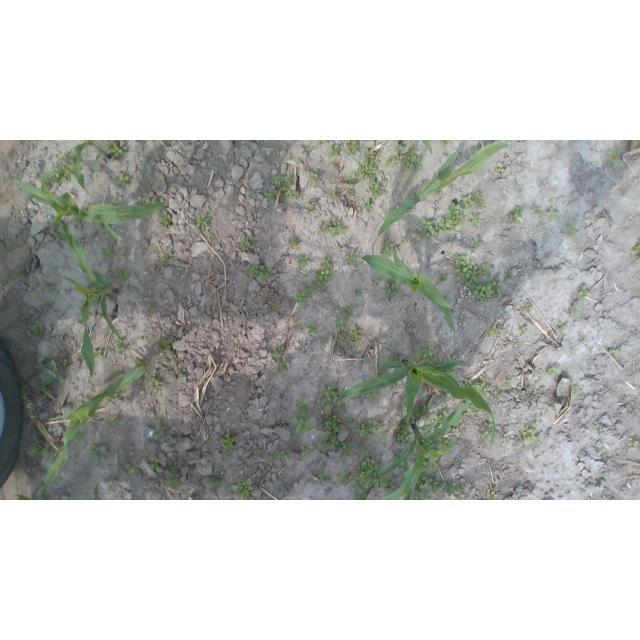Maize: (370, 140, 511, 254), (333, 354, 497, 450), (36, 365, 149, 500), (53, 216, 120, 377), (15, 172, 166, 241), (348, 244, 456, 332), (378, 398, 471, 500), (71, 140, 110, 198), (15, 484, 105, 500), (398, 140, 446, 156)
Weeds: (350, 457, 398, 500), (454, 253, 495, 284), (266, 172, 302, 202), (289, 397, 316, 436), (46, 148, 74, 185), (464, 277, 503, 303), (355, 147, 380, 181), (420, 217, 450, 245), (393, 145, 424, 171), (413, 473, 442, 500), (316, 384, 345, 409), (425, 435, 454, 459), (39, 360, 65, 386), (314, 257, 334, 289), (394, 417, 415, 445), (446, 201, 464, 233), (28, 440, 56, 460), (356, 420, 384, 440), (440, 479, 466, 500), (313, 435, 340, 454), (468, 375, 491, 397), (324, 411, 345, 435), (415, 343, 437, 365), (296, 284, 316, 308), (244, 265, 273, 281), (231, 480, 253, 501), (520, 423, 541, 445), (463, 191, 485, 210), (164, 465, 180, 489), (154, 335, 173, 354), (505, 205, 524, 224), (90, 443, 110, 461), (219, 432, 237, 452), (339, 441, 354, 464), (105, 141, 123, 160), (412, 405, 431, 423), (367, 179, 386, 197), (146, 371, 162, 392), (429, 411, 450, 427), (462, 398, 483, 414), (327, 218, 345, 236), (196, 213, 213, 232), (239, 235, 257, 251), (347, 327, 361, 347), (384, 279, 397, 300), (36, 380, 53, 396), (379, 242, 397, 257), (170, 361, 186, 377), (375, 364, 392, 379), (115, 172, 130, 189), (159, 211, 174, 228), (114, 336, 128, 354), (603, 150, 618, 166), (127, 463, 144, 477), (577, 284, 591, 300), (150, 457, 163, 474), (32, 318, 44, 336), (346, 251, 360, 266), (114, 268, 129, 282), (71, 429, 85, 444), (335, 471, 350, 485), (567, 220, 577, 241), (345, 141, 359, 156), (442, 366, 458, 379), (468, 212, 481, 228), (153, 419, 165, 436), (545, 364, 562, 376), (328, 143, 342, 157), (547, 208, 561, 222), (104, 394, 119, 407), (448, 420, 463, 433), (479, 428, 492, 443), (279, 356, 289, 375), (266, 299, 280, 312), (421, 460, 434, 474), (298, 255, 310, 270), (143, 194, 158, 206), (41, 281, 56, 293), (487, 325, 503, 336), (366, 390, 379, 403), (570, 305, 583, 318), (341, 304, 355, 316), (319, 472, 333, 484), (571, 382, 585, 394), (102, 248, 114, 261), (212, 477, 225, 489), (362, 199, 374, 212), (390, 350, 403, 362), (399, 457, 410, 471), (301, 445, 312, 459), (279, 451, 293, 462), (471, 237, 481, 252), (92, 348, 104, 360), (107, 419, 121, 429), (307, 323, 319, 334), (15, 267, 27, 278), (557, 324, 568, 336), (437, 273, 449, 284), (335, 318, 345, 331), (489, 488, 499, 501), (526, 298, 534, 314), (163, 252, 172, 266), (485, 414, 494, 428), (607, 349, 621, 358), (439, 394, 450, 405), (308, 172, 319, 183), (335, 333, 346, 344), (397, 405, 408, 416), (304, 201, 316, 211), (127, 283, 139, 293), (42, 299, 54, 309), (18, 452, 26, 466), (55, 233, 65, 244), (505, 379, 516, 389), (384, 156, 396, 165), (135, 359, 148, 367), (490, 390, 500, 400), (279, 487, 289, 497), (316, 223, 326, 233), (288, 239, 299, 248), (277, 420, 288, 429), (271, 349, 283, 357), (632, 243, 640, 255), (504, 272, 516, 280), (627, 440, 640, 447), (356, 287, 365, 297), (520, 326, 529, 336), (384, 427, 393, 437), (347, 419, 356, 429), (328, 189, 336, 200), (595, 428, 604, 437), (391, 452, 400, 461), (60, 356, 68, 366), (496, 163, 504, 173), (320, 338, 328, 347), (145, 304, 153, 313), (520, 390, 528, 399), (535, 207, 544, 215), (434, 187, 443, 195), (346, 175, 354, 184), (316, 140, 329, 145), (357, 448, 365, 456), (570, 348, 577, 356), (349, 188, 356, 196), (408, 357, 416, 364), (259, 448, 265, 457), (516, 445, 521, 455), (405, 208, 415, 213), (271, 452, 277, 460), (634, 257, 640, 263), (392, 382, 399, 387), (72, 215, 77, 222), (116, 200, 122, 205), (624, 399, 629, 405), (482, 219, 488, 223), (443, 140, 449, 144), (210, 237, 214, 240)
